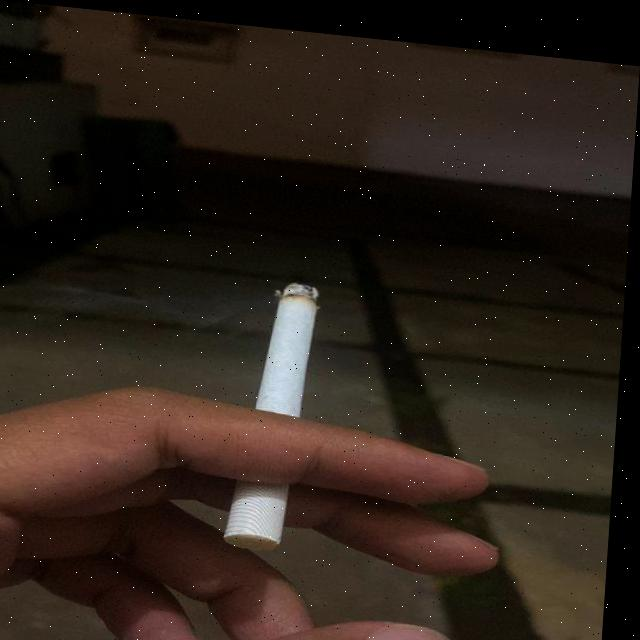cigarette: (231, 274, 322, 544)
